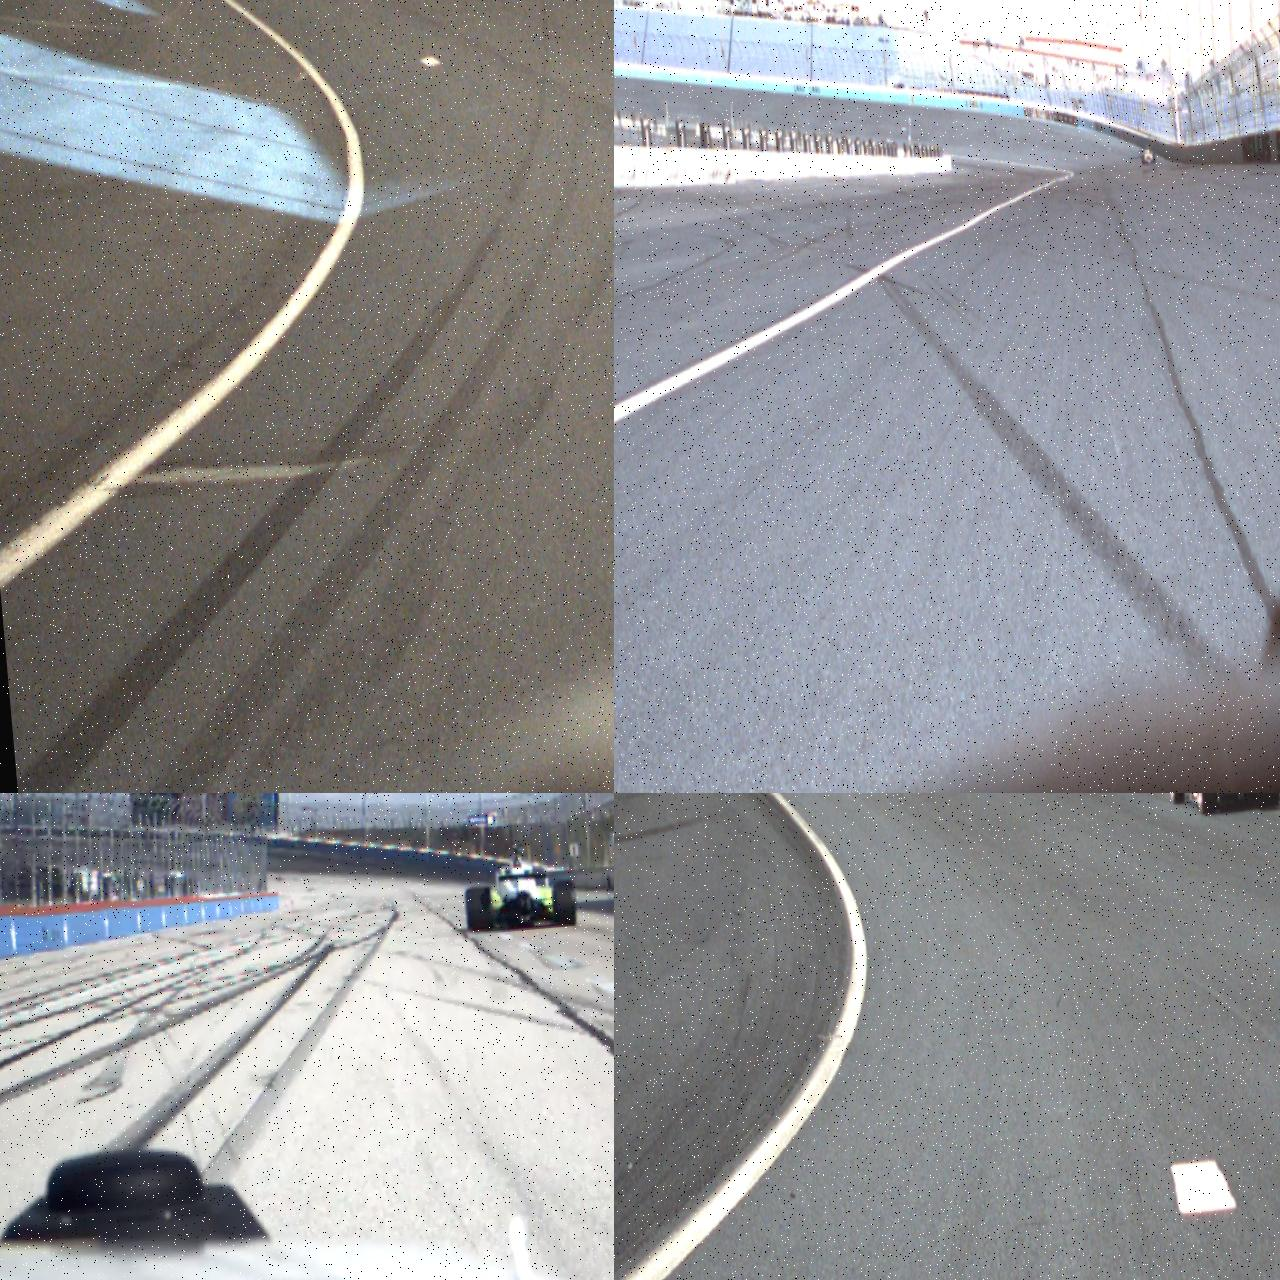AV: (459, 838, 579, 935), (1141, 143, 1156, 164)
Wheel: (464, 886, 495, 930), (552, 879, 578, 926), (1193, 794, 1218, 815), (1257, 794, 1280, 810), (1166, 794, 1186, 804), (1152, 152, 1156, 163), (1142, 155, 1145, 164)
